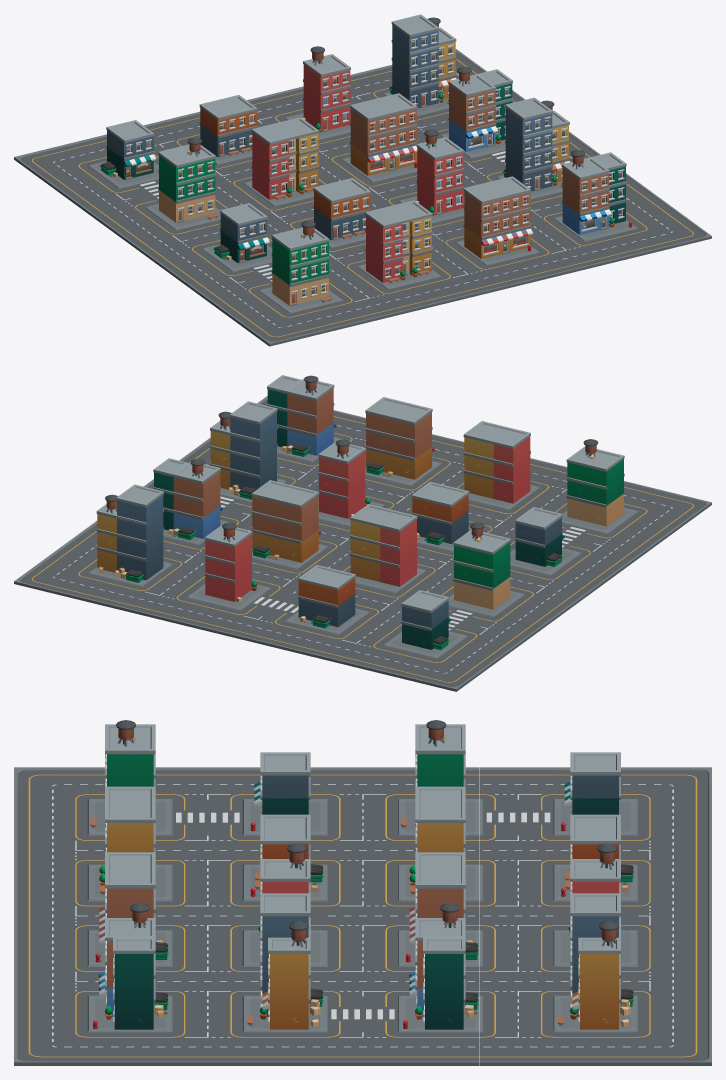
File: map.glb
3 views of the same model, one above another, from view 1: azimuth 30°, elevation 25°; view 2: azimuth 150°, elevation 25°; view 3: azimuth 270°, elevation 25° (orthographic). The views are drawn at different scales.
Visible parts, largest first — view 1: building_H, building_H.001, building_E, building_E.001, building_G, building_F, building_F.001, building_G.001, building_D, building_D.001, building_C.001, building_C (+49 smaller); view 2: building_H.001, building_H, building_E.001, building_F.001, building_F, building_E, building_G.001, building_G, building_D, building_D.001, building_C.001, building_C (+52 smaller); view 3: building_H, building_H.001, building_G.001, building_G, building_F.001, building_F, building_E.001, building_A, building_D.001, building_A.001, building_E, building_D (+69 smaller).
Part boxes in pixels (x1=…): building_H: x1=500, y1=97, x2=569, y2=196; building_H.001: x1=387, y1=14, x2=456, y2=113; building_E: x1=459, y1=176, x2=535, y2=262; building_E.001: x1=345, y1=93, x2=417, y2=179; building_G: x1=557, y1=150, x2=633, y2=239; building_F: x1=360, y1=200, x2=437, y2=287; building_F.001: x1=247, y1=117, x2=319, y2=203; building_G.001: x1=443, y1=66, x2=512, y2=155; building_D: x1=262, y1=220, x2=338, y2=311; building_D.001: x1=148, y1=137, x2=220, y2=227; building_C.001: x1=288, y1=46, x2=350, y2=137; building_C: x1=402, y1=129, x2=464, y2=220; building_H.001: x1=92, y1=484, x2=168, y2=584; building_H: x1=210, y1=401, x2=282, y2=500; building_E.001: x1=251, y1=480, x2=323, y2=566; building_F.001: x1=350, y1=504, x2=421, y2=590; building_F: x1=463, y1=421, x2=535, y2=507; building_E: x1=365, y1=397, x2=437, y2=483; building_G.001: x1=153, y1=458, x2=225, y2=542; building_G: x1=267, y1=375, x2=338, y2=459; building_D: x1=562, y1=439, x2=633, y2=531; building_D.001: x1=448, y1=522, x2=520, y2=614; building_C.001: x1=190, y1=522, x2=266, y2=608; building_C: x1=318, y1=439, x2=380, y2=524; building_H: x1=246, y1=893, x2=324, y2=1029; building_H.001: x1=557, y1=893, x2=634, y2=1029; building_G.001: x1=401, y1=903, x2=479, y2=1029; building_G: x1=91, y1=903, x2=168, y2=1029; building_F.001: x1=401, y1=786, x2=479, y2=898; building_F: x1=91, y1=786, x2=168, y2=898; building_E.001: x1=401, y1=852, x2=479, y2=963; building_A: x1=246, y1=752, x2=324, y2=832; building_D.001: x1=401, y1=720, x2=479, y2=832; building_A.001: x1=557, y1=752, x2=634, y2=832; building_E: x1=91, y1=852, x2=168, y2=963; building_D: x1=90, y1=720, x2=168, y2=832.
Size of the model in its own units: 18 by 3.05 by 18.
Materials: 1 (1 with a texture image).
